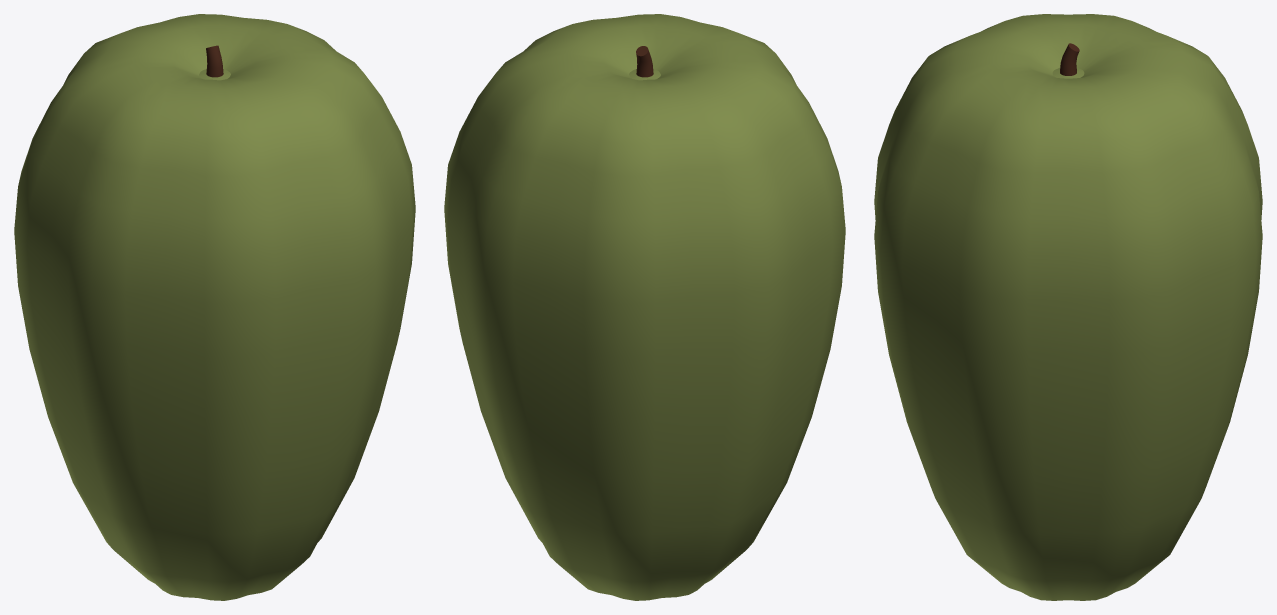
File: K_Melon.fbx
The picture shows the model from 3 angles, left to right: view 1: azimuth 30°, elevation 25°; view 2: azimuth 150°, elevation 25°; view 3: azimuth 270°, elevation 25°; orthographic projection.
Visible parts, largest first — view 1: Sphere.001; view 2: Sphere.001; view 3: Sphere.001.
Part boxes in pixels (x1,y1,x2,y2): Sphere.001: (14, 14, 415, 600); Sphere.001: (444, 14, 845, 600); Sphere.001: (874, 14, 1262, 600).
Bounding box in the file's own units: 181 × 277 × 181.
